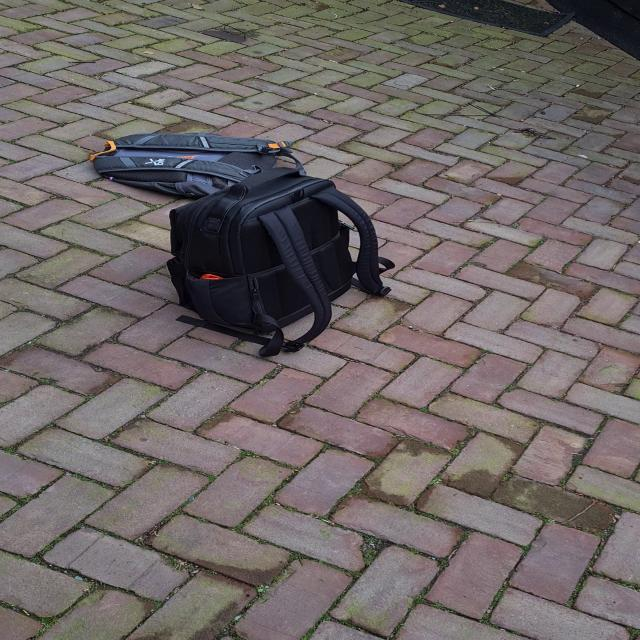backpack: (153, 166, 377, 347), (81, 128, 313, 200)
